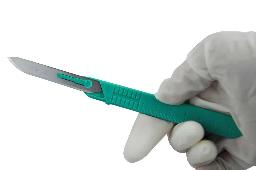scalpel: (8, 55, 244, 138)
